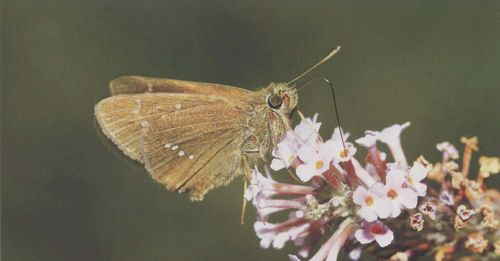Hesperiidae: (89, 39, 350, 224)
